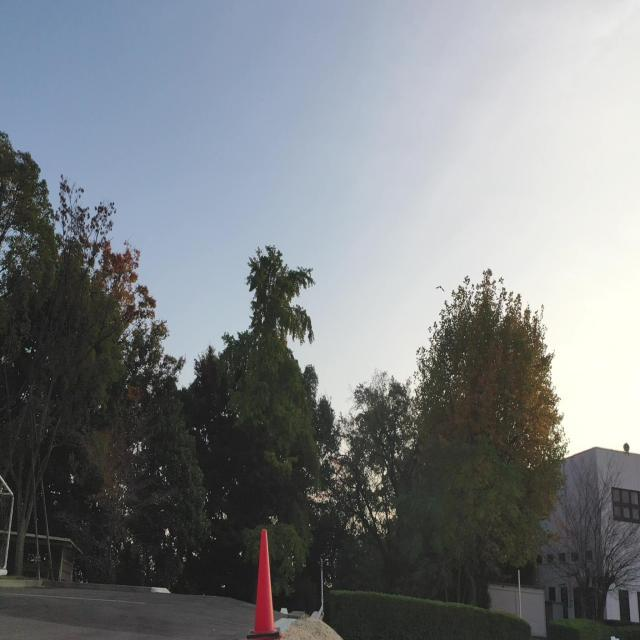Birds: (430, 271, 450, 300)
